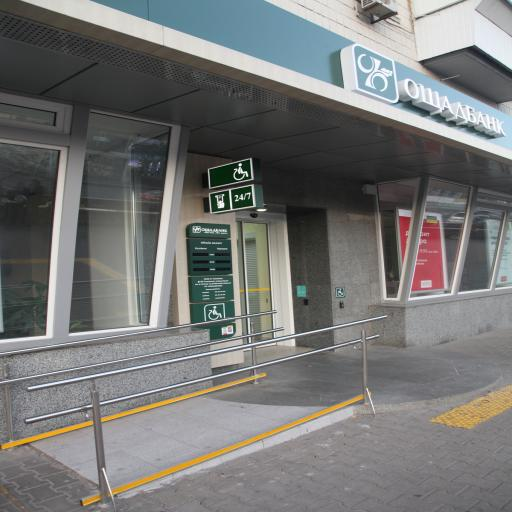ramp: (11, 396, 358, 496)
